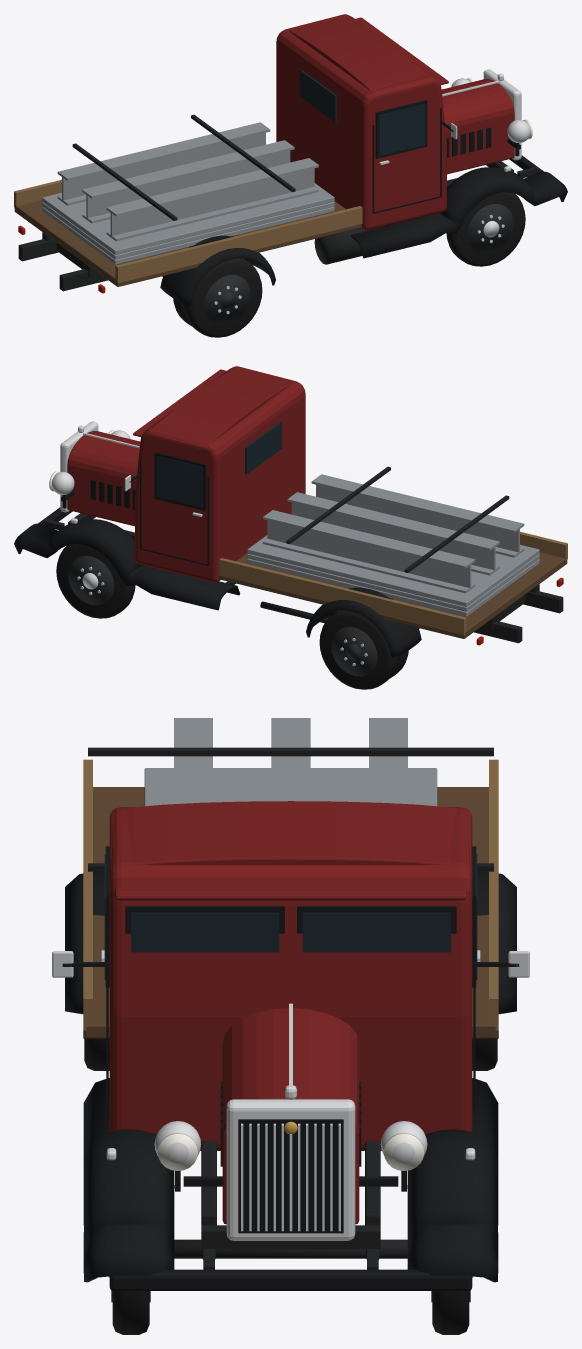
File: balogh_steel_truck.glb
3 renders of one model, top to bottom at view 1: azimuth 30°, elevation 25°; view 2: azimuth 150°, elevation 25°; view 3: azimuth 270°, elevation 25°, orthographic. The views are drawn at different scales.
Parts seen in each view (by area): view 1: cabine, paralama_d.001, teto_abaulado, capo, chapa.002, borda.001, viga_alma, piso, roda_t_pneu0.001, viga_alma.001, viga_alma.002, viga_mesa_s (+21 smaller); view 2: cabine, paralama_d, teto_abaulado, capo, chapa.002, borda, viga_alma.002, piso, roda_t_pneu1, viga_alma.001, viga_alma, viga_mesa_s.001 (+20 smaller); view 3: cabine, teto_abaulado, paralama_d, paralama_d.001, capo, radiador_colmeia, para_choque, piso, radiador_moldura, chapa.002, parabrisa, parabrisa.001 (+24 smaller).
Boxes of the visible parts, x1,y1,x2,y2 form: cabine: (276,14,446,230); paralama_d.001: (351,167,567,258); teto_abaulado: (288,17,432,95); capo: (441,79,514,174); chapa.002: (42,183,334,254); borda.001: (115,206,362,283); viga_alma: (110,168,314,236); piso: (14,200,361,286); roda_t_pneu0.001: (183,258,262,337); viga_alma.001: (86,150,290,218); viga_alma.002: (62,132,265,201); viga_mesa_s: (106,158,318,216); cabine: (135,366,305,582); paralama_d: (14,519,240,610); teto_abaulado: (149,369,293,447); capo: (67,431,140,526); chapa.002: (247,535,539,606); borda: (219,558,466,635); viga_alma.002: (267,520,471,588); piso: (220,552,567,638); roda_t_pneu1: (319,610,398,689); viga_alma.001: (291,502,495,570); viga_alma: (316,484,519,552); viga_mesa_s.001: (287,492,499,550); cabine: (109,807,472,1150); teto_abaulado: (110,801,471,869); paralama_d: (407,1078,498,1282); paralama_d.001: (83,1078,174,1282); capo: (222,1008,359,1224); radiador_colmeia: (238,1119,343,1233); para_choque: (109,1269,472,1290); piso: (84,787,497,1038); radiador_moldura: (226,1099,355,1240); chapa.002: (144,768,437,806); parabrisa: (302,912,450,952); parabrisa.001: (131,912,279,952).
Bounding box in the file's own units: 5.69 × 2.34 × 2.45.
